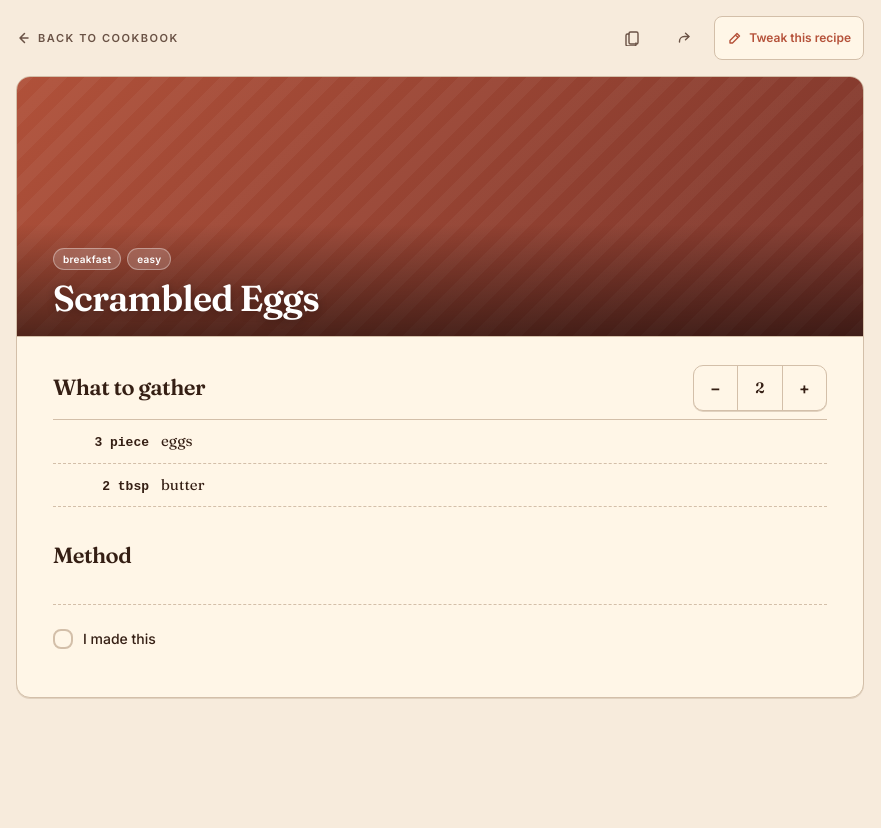
Test: RecipeDisplay › Servings stepper › scales ingredient amounts when servings increase
Click the button named "Increase servings" at point(804, 388), box [782,366,826,410]
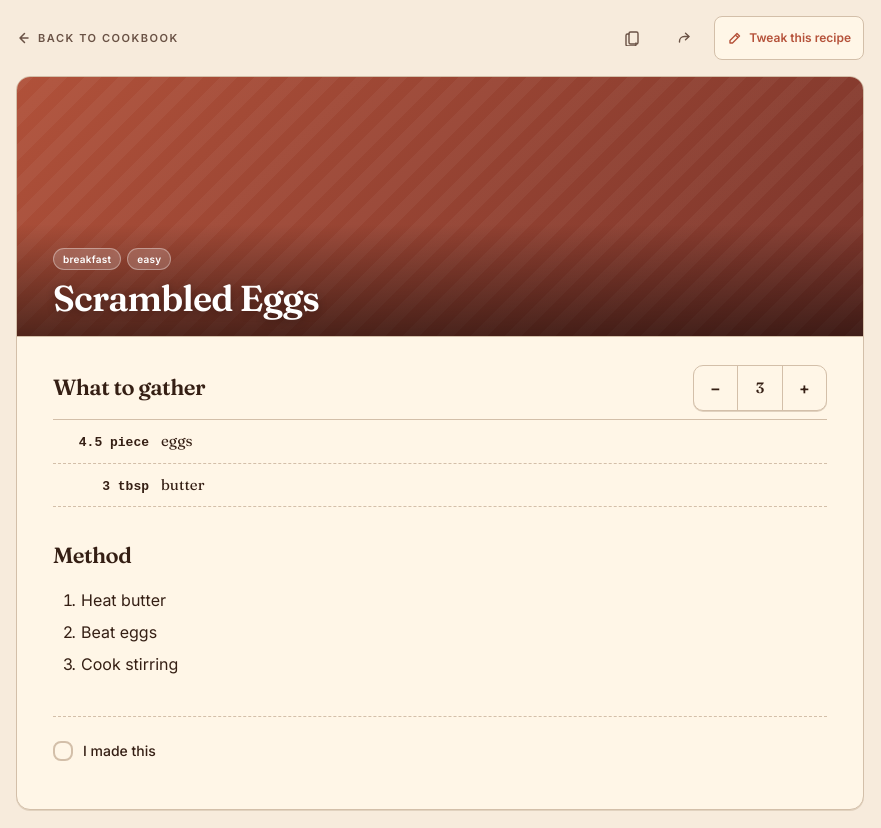
Expected: the text "4.5 piece" is shown, [79,435,149,450]
